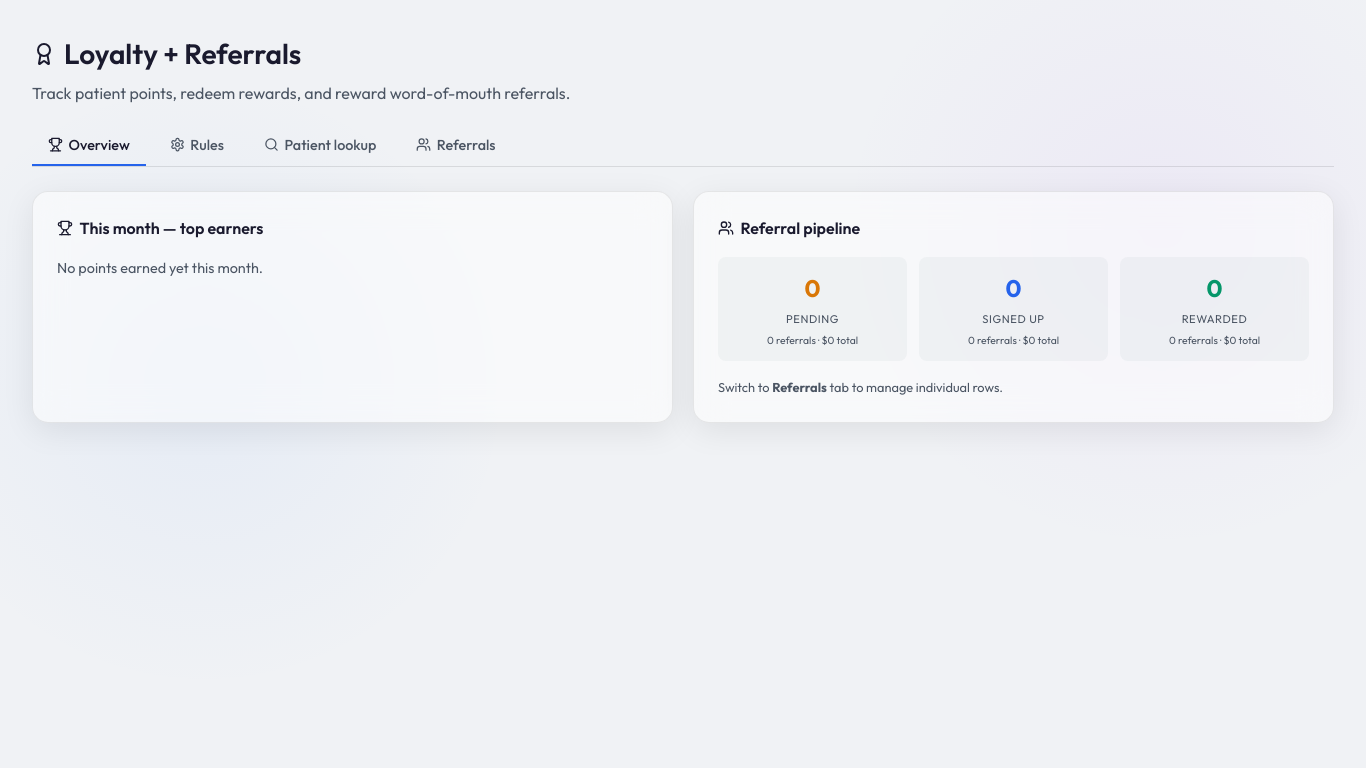
<Loyalty /> — #614 Rules tab › renders earn/burn rule lines from /loyalty/rules when Rules tab is opened
Switch to Rules tab
Click the button "Rules": (197, 146) [154,126,240,166]
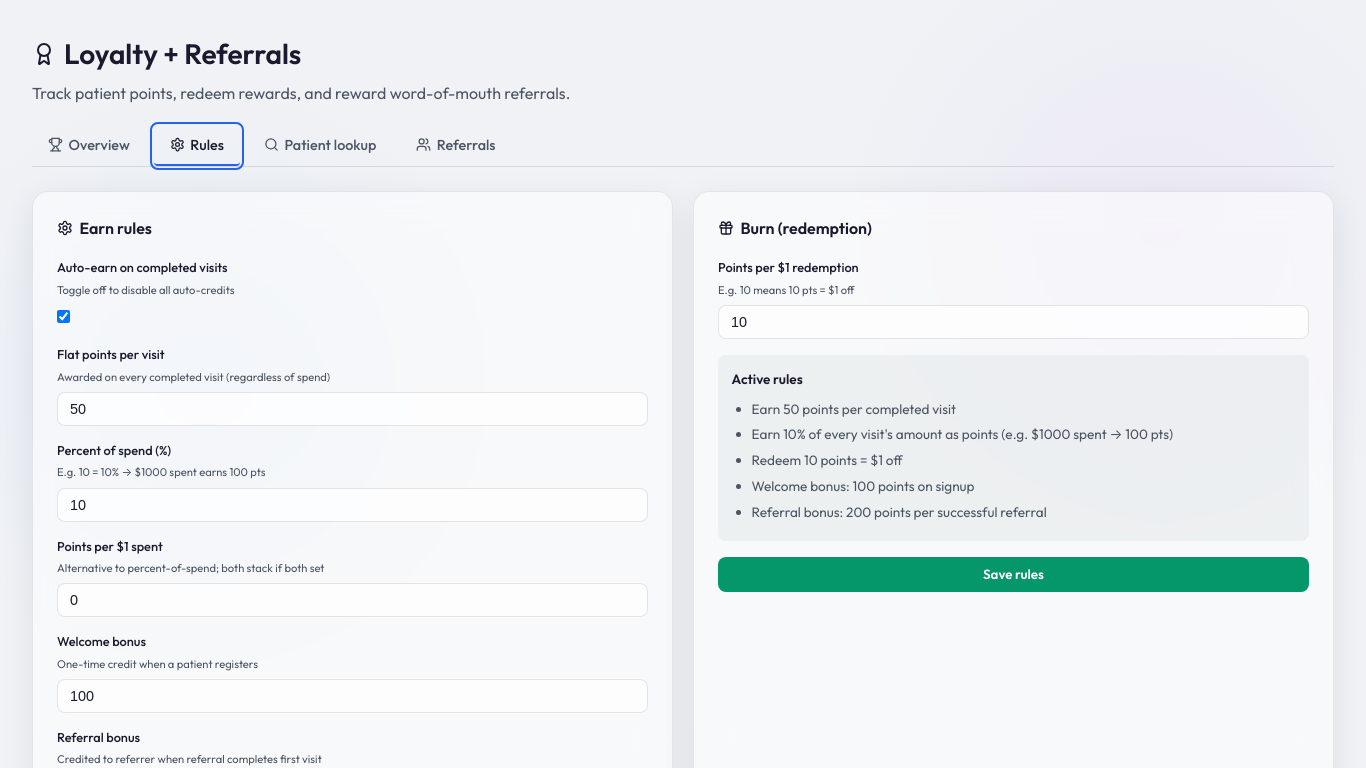
expect the list item "Earn 50 points per completed visit" is shown: met, box [752,400,956,418]
expect the list item "10% of every visit's amount as points" is shown: met, box [752,425,1173,443]
expect the list item "Redeem 10 points = $1 off" is shown: met, box [752,451,902,469]
